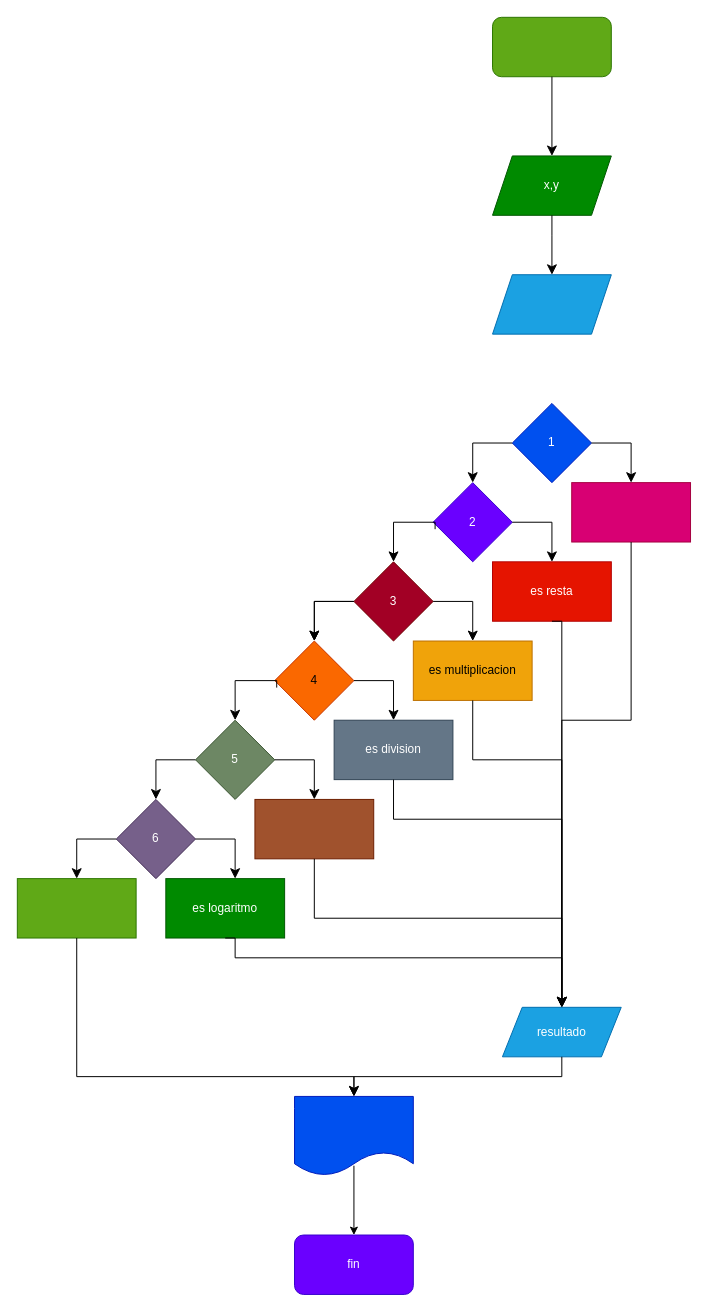
Image size: 708x1312. Some labels were removed from this diagram. The centre of each missing label's shape, as x and y in pixels:
"es potencia" goes at point 314,828.
"es suma" goes at point 631,512.
"ingresar numero de operacion" goes at point 551,304.
"inicio" goes at point 551,46.
"no tiene operacion" goes at point 76,908.
"output" goes at point 353,1135.
